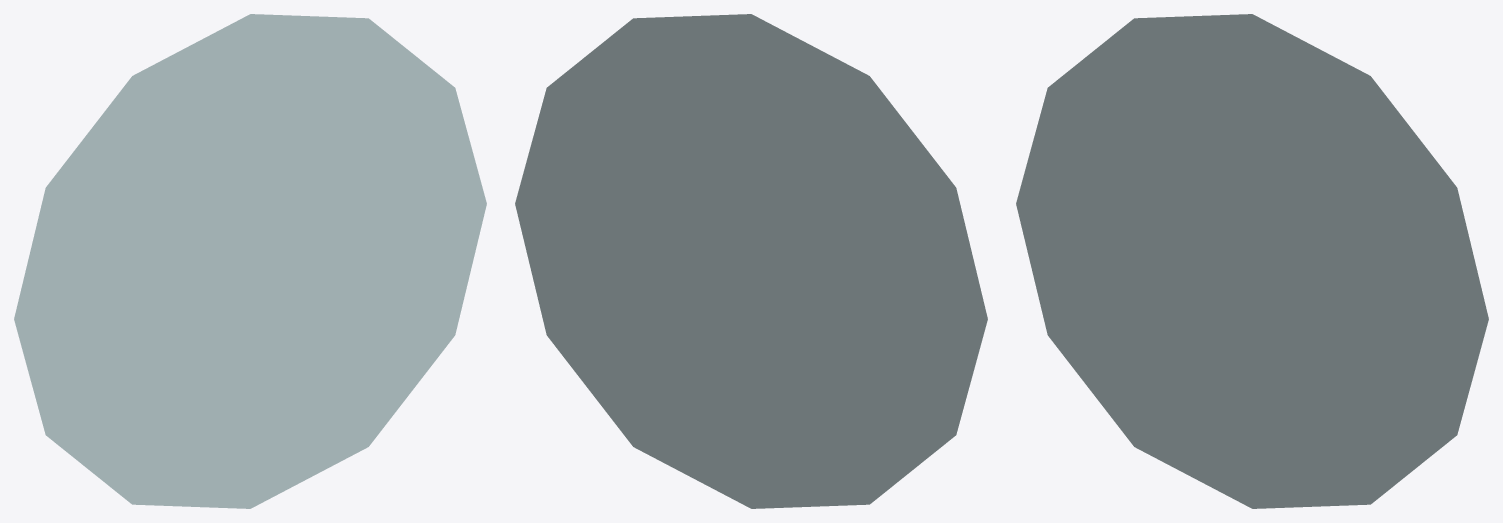
The model's file is Itr_Obj_clock1_Glass_01.FBX.
3 views of the same model, side by side, from view 1: azimuth 30°, elevation 25°; view 2: azimuth 150°, elevation 25°; view 3: azimuth 330°, elevation 25° (orthographic).
Visible parts, largest first — view 1: Itr_Obj_clock1_Glass_01; view 2: Itr_Obj_clock1_Glass_01; view 3: Itr_Obj_clock1_Glass_01.
Part boxes in pixels (x1,y1,x2,y2): Itr_Obj_clock1_Glass_01: (14,14,486,508); Itr_Obj_clock1_Glass_01: (515,14,987,508); Itr_Obj_clock1_Glass_01: (1016,14,1488,508).
Bounding box in the file's own units: 11.17 × 11.17 × 1.91e-06.
